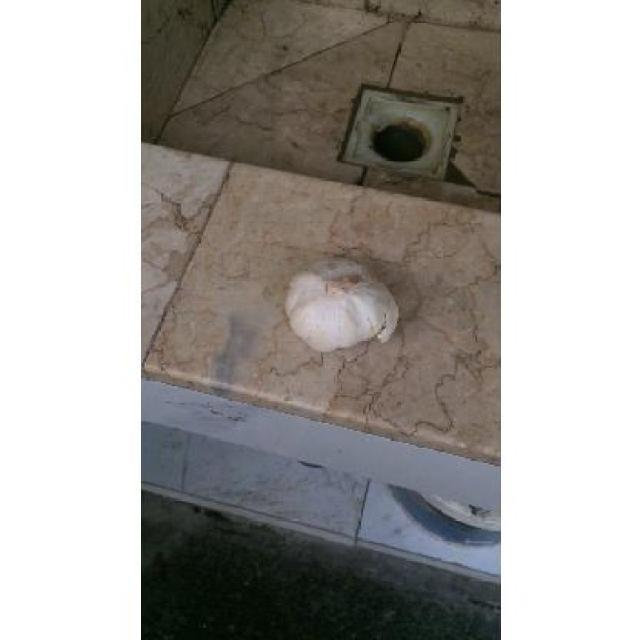garlic: (285, 259, 399, 352)
